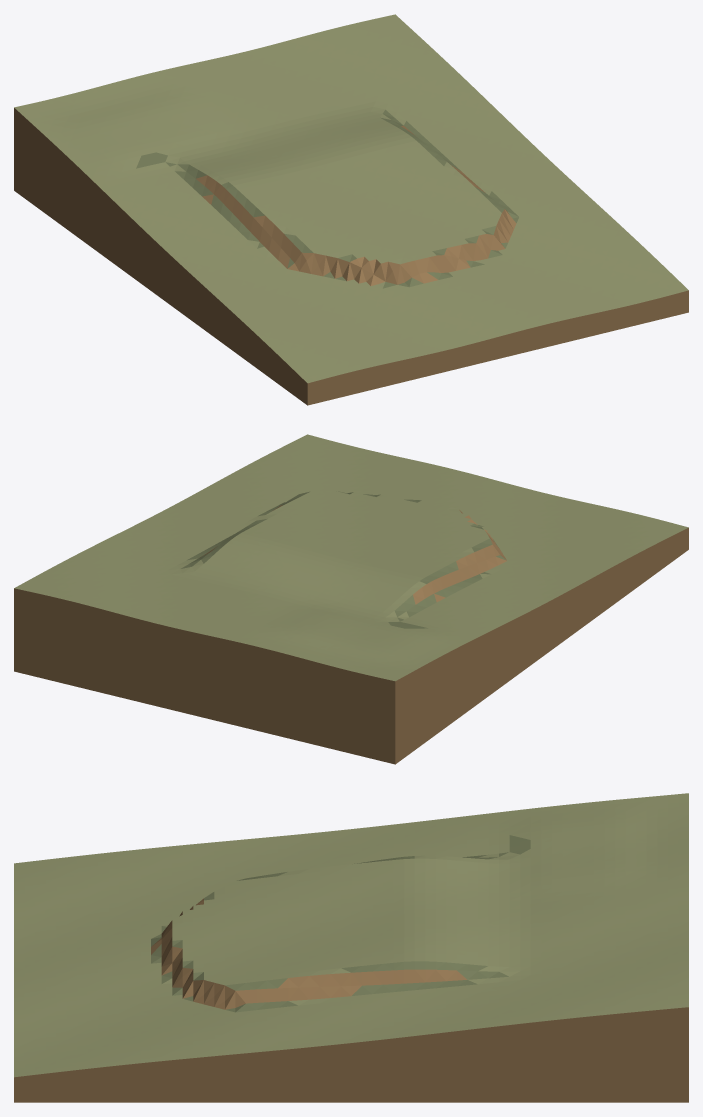
The picture shows the model from 3 angles, top to bottom: view 1: azimuth 30°, elevation 25°; view 2: azimuth 150°, elevation 25°; view 3: azimuth 270°, elevation 25°; orthographic projection. The views are drawn at different scales.
Visible parts, largest first — view 1: continuous_soil_mantle_shallow_rounded_downslope_tongue; view 2: continuous_soil_mantle_shallow_rounded_downslope_tongue; view 3: continuous_soil_mantle_shallow_rounded_downslope_tongue.
Boxes of the visible parts, x1,y1,x2,y2 form: continuous_soil_mantle_shallow_rounded_downslope_tongue: (14, 14, 688, 405); continuous_soil_mantle_shallow_rounded_downslope_tongue: (14, 434, 688, 764); continuous_soil_mantle_shallow_rounded_downslope_tongue: (14, 793, 688, 1102).
Size of the model in its own units: 18 by 3.79 by 24.
